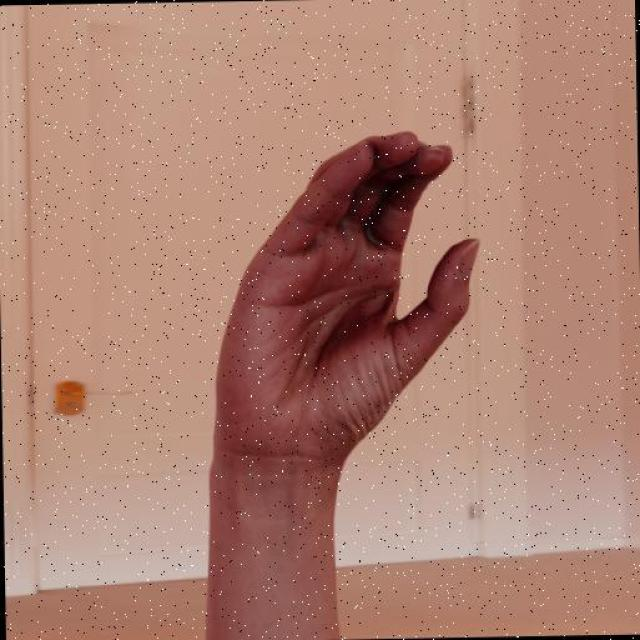C: (194, 126, 488, 482)
